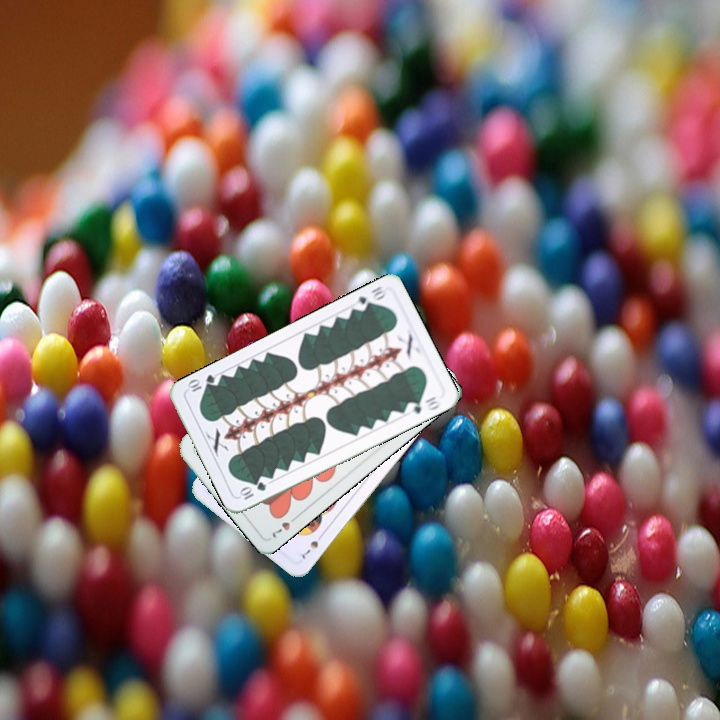G10: (350, 282, 390, 314), (235, 478, 269, 502)
H7: (268, 511, 301, 540)
S7: (298, 529, 326, 561)
